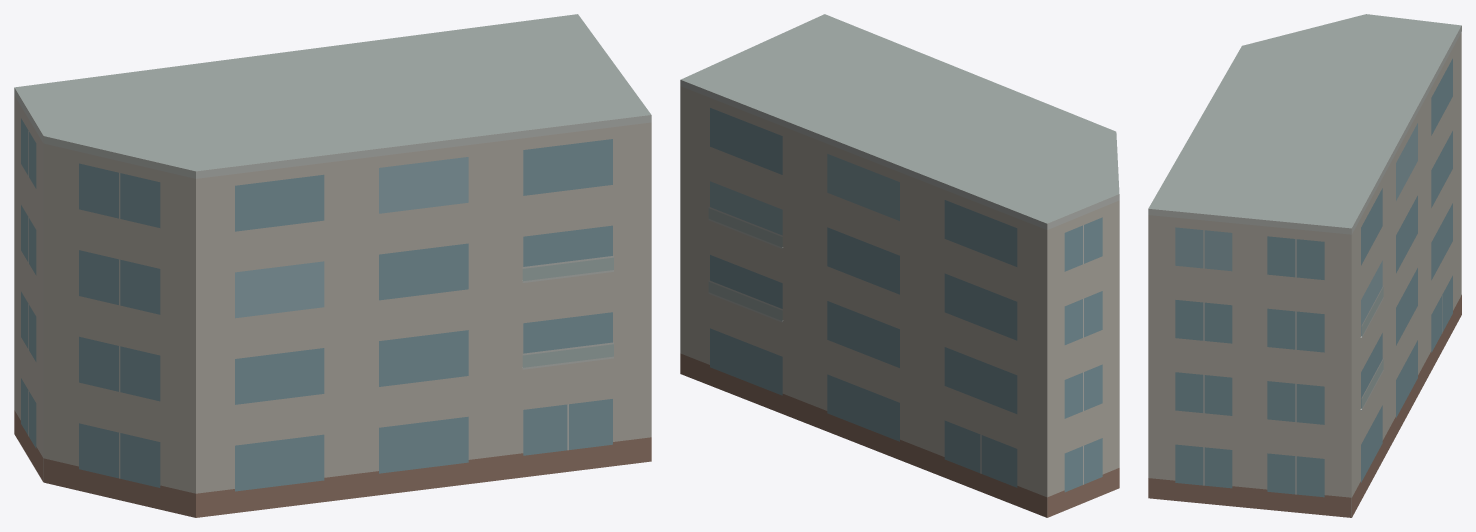
File: survey-upis-32859571.glb
The picture shows the model from 3 angles, left to right: view 1: azimuth 30°, elevation 25°; view 2: azimuth 150°, elevation 25°; view 3: azimuth 270°, elevation 25°; orthographic projection. The views are drawn at different scales.
Parts seen in each view (by area): view 1: survey-upis-32859571.tmp; view 2: survey-upis-32859571.tmp; view 3: survey-upis-32859571.tmp.
Boxes of the visible parts, <box> form: survey-upis-32859571.tmp: <box>14,14,651,517</box>; survey-upis-32859571.tmp: <box>680,14,1119,517</box>; survey-upis-32859571.tmp: <box>1148,14,1461,517</box>.
Size of the model in its own units: 17.91 by 11.27 by 11.07.
